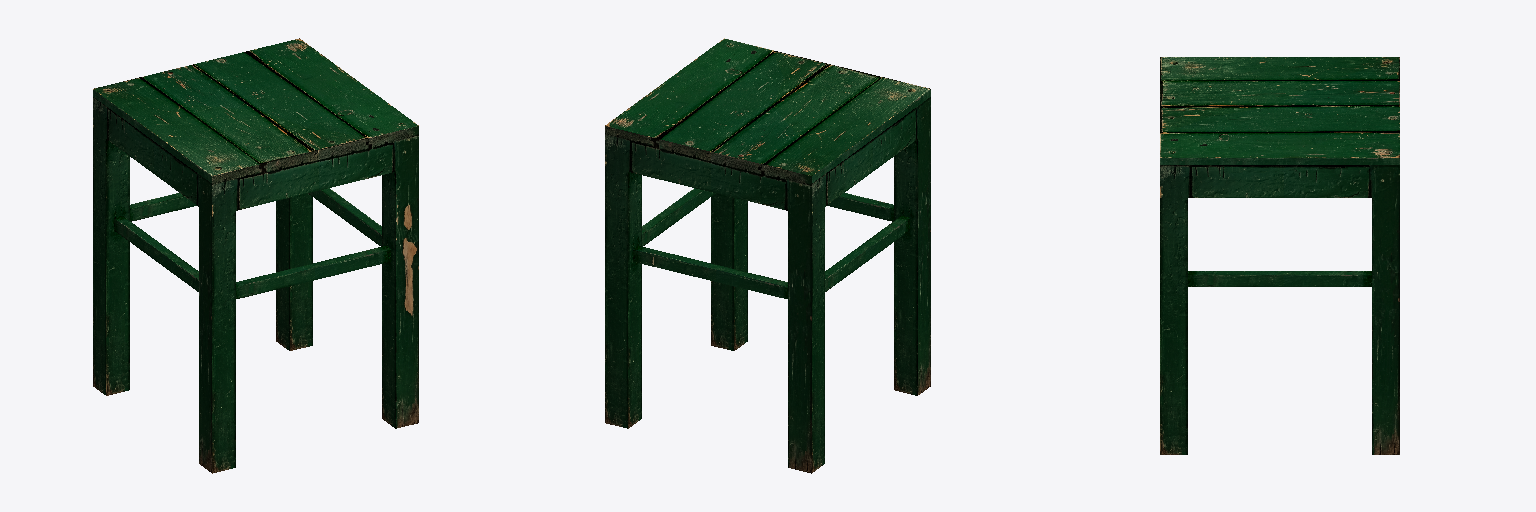
3 renders of one model, left to right at view 1: azimuth 30°, elevation 25°; view 2: azimuth 150°, elevation 25°; view 3: azimuth 270°, elevation 25°, orthographic.
Visible parts, largest first — view 1: stool; view 2: stool; view 3: stool.
Boxes of the visible parts, <box> form: stool: <box>93,38,418,473</box>; stool: <box>605,38,930,473</box>; stool: <box>1160,57,1399,454</box>.
Bounding box in the file's own units: 0.35 × 0.48 × 0.35.
Materials: 1 (1 with a texture image).